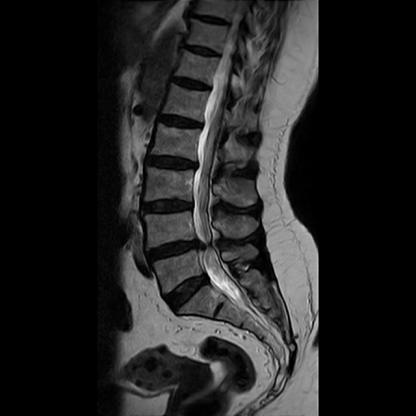Disc Bulgerotation: (146, 238, 211, 263), (139, 194, 200, 220), (142, 151, 203, 175)
